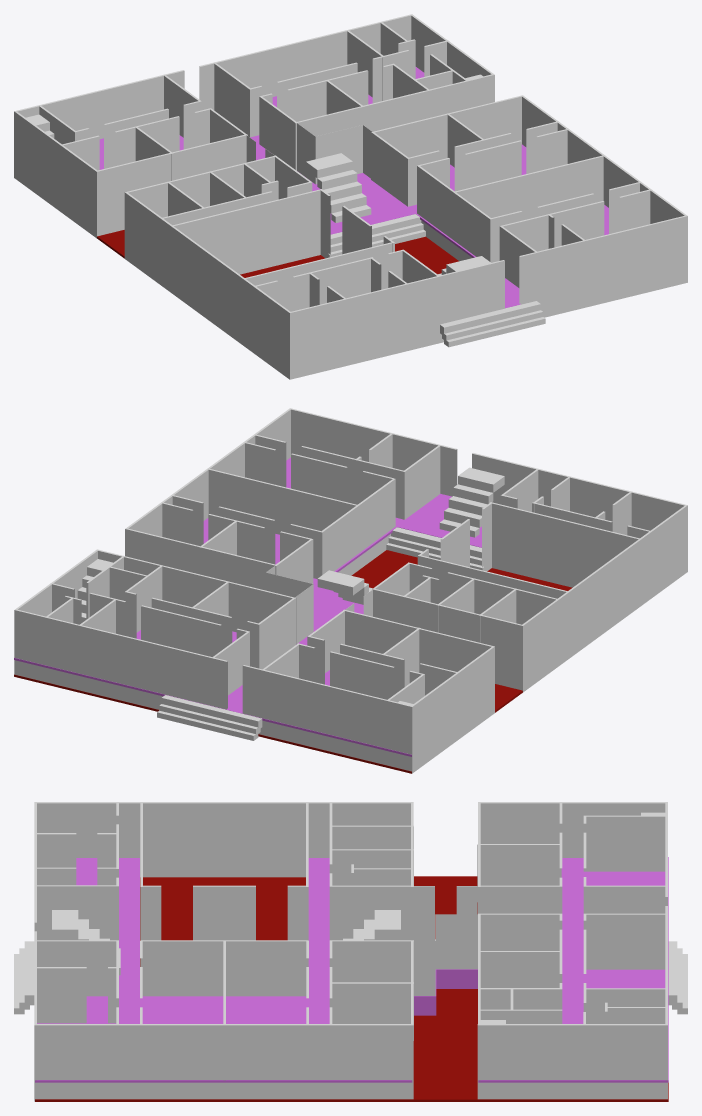
The model's file is Ground_Model.fbx.
The picture shows the model from 3 angles, top to bottom: view 1: azimuth 30°, elevation 25°; view 2: azimuth 150°, elevation 25°; view 3: azimuth 270°, elevation 25°; orthographic projection. The views are drawn at different scales.
Visible parts, largest first — view 1: Ground, Stair_Ground_1, Stair_Ground_5, Stair_Ground_4; view 2: Ground, Stair_Ground_9, Stair_Ground_2, Stair_Ground_3, Stair_Ground_5, Stair_Ground_8; view 3: Ground, Stair_Ground_1, Stair_Ground_9, Stair_Ground_2, Stair_Ground_5.
Part boxes in pixels (bbox=[...]): Ground: bbox=[14, 14, 687, 379]; Stair_Ground_1: bbox=[440, 301, 545, 347]; Stair_Ground_5: bbox=[306, 153, 371, 222]; Stair_Ground_4: bbox=[328, 214, 425, 257]; Ground: bbox=[14, 408, 687, 773]; Stair_Ground_9: bbox=[157, 695, 262, 740]; Stair_Ground_2: bbox=[439, 467, 504, 537]; Stair_Ground_3: bbox=[386, 527, 483, 570]; Stair_Ground_5: bbox=[317, 570, 371, 604]; Stair_Ground_8: bbox=[77, 559, 112, 622]; Ground: bbox=[34, 802, 668, 1101]; Stair_Ground_1: bbox=[14, 941, 34, 1014]; Stair_Ground_9: bbox=[668, 941, 687, 1014]; Stair_Ground_2: bbox=[52, 910, 120, 975]; Stair_Ground_5: bbox=[343, 910, 400, 940].
Size of the model in its own units: 5003 by 801 by 6383.
